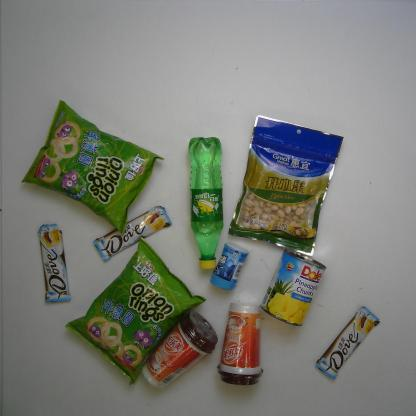Canned Food: (259, 248, 327, 328)
Chocolate: (315, 306, 381, 380), (93, 204, 173, 263), (37, 222, 73, 305)
Dried Fruit: (226, 114, 344, 258)
Drink: (187, 135, 225, 271)
Gum: (209, 239, 251, 292)
Instant Drink: (140, 308, 219, 390), (216, 300, 265, 386)
Puffed Food: (63, 235, 208, 385), (19, 99, 165, 238)
